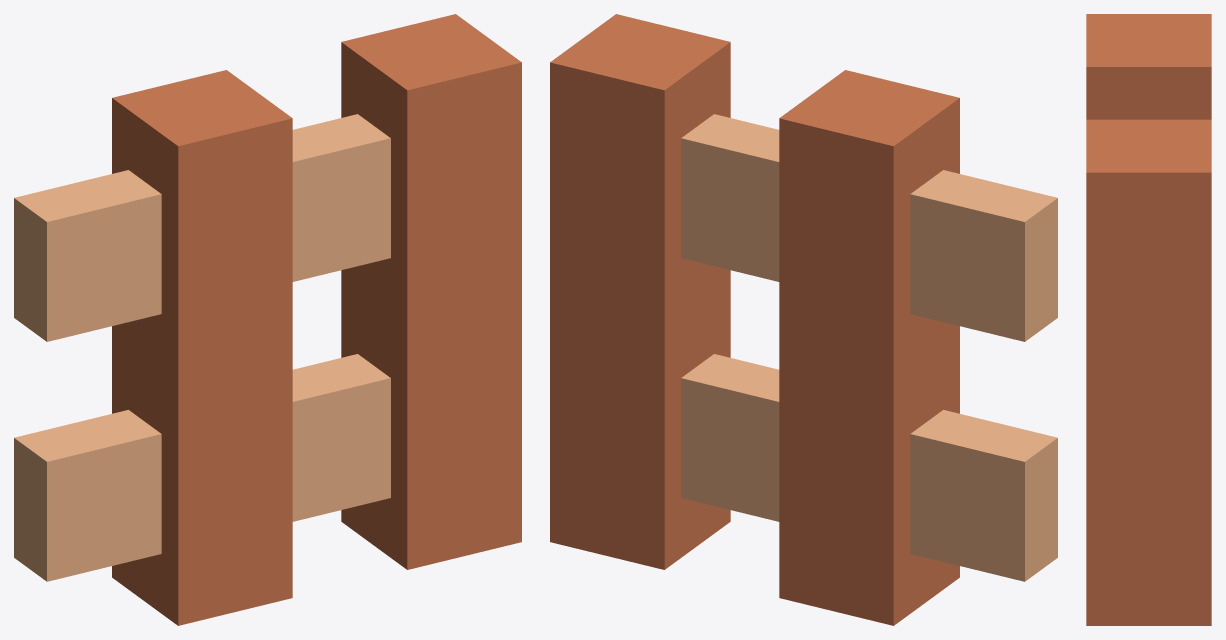
The model's file is wood-fence.obj.
The picture shows the model from 3 angles, left to right: view 1: azimuth 30°, elevation 25°; view 2: azimuth 150°, elevation 25°; view 3: azimuth 270°, elevation 25°; orthographic projection. The views are drawn at different scales.
Bounding box in the file's own units: 8 × 8 × 2.
Materials: 1 (1 with a texture image).
